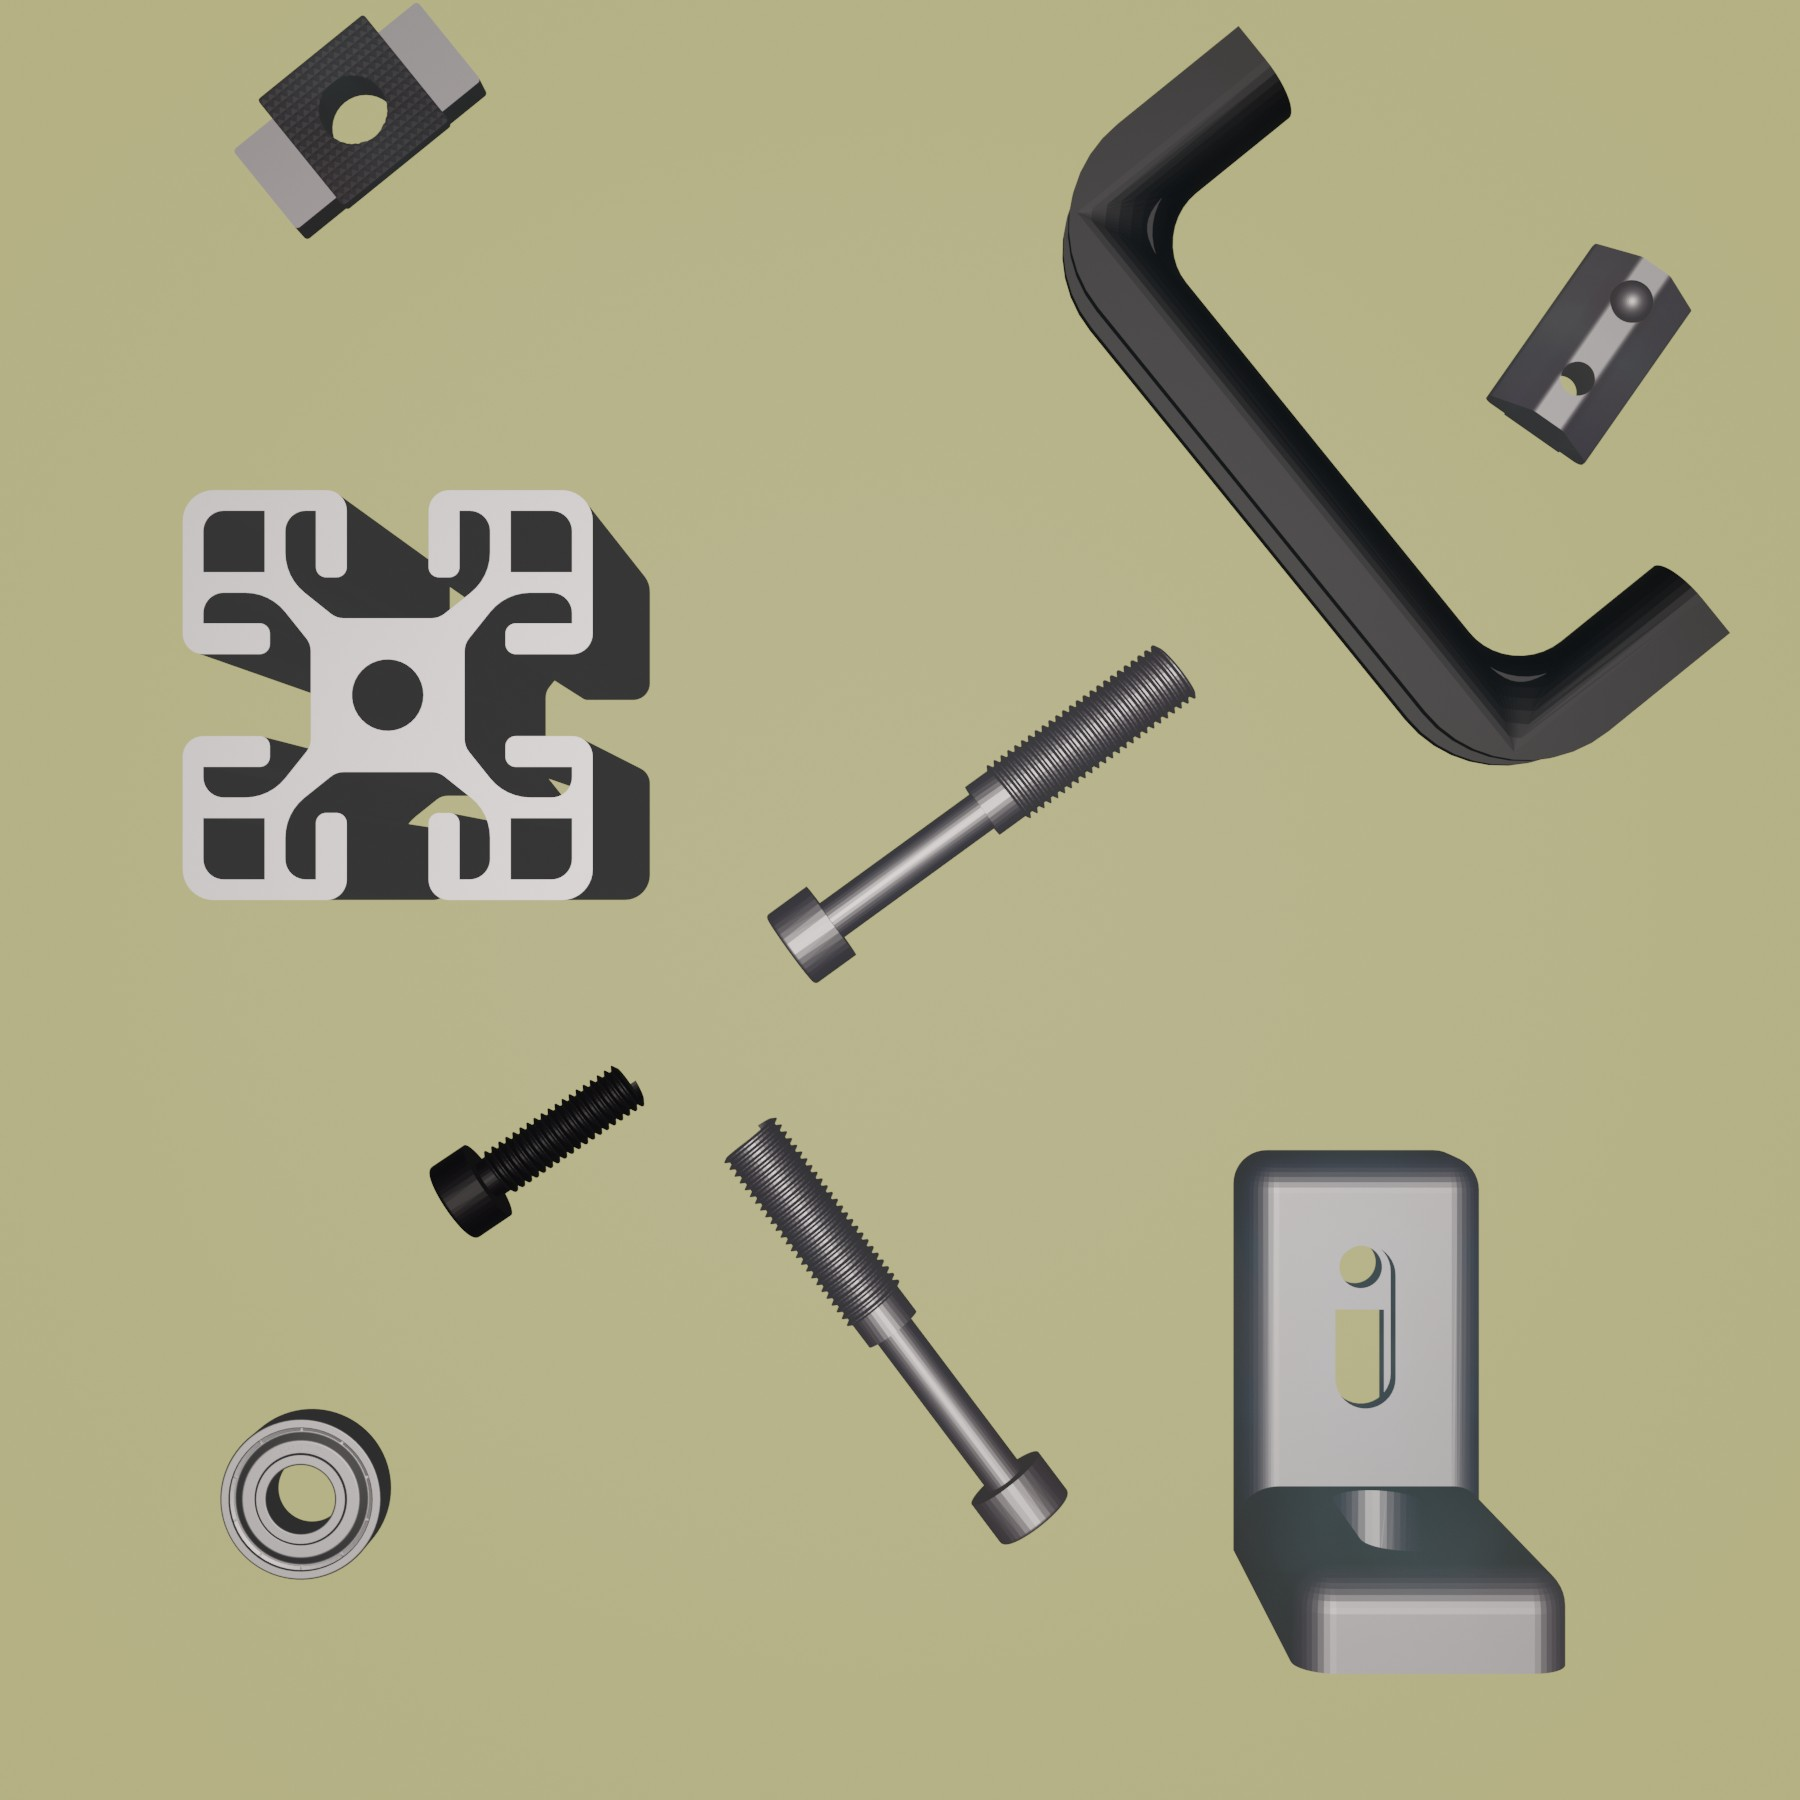Aluminium Extension: (175, 486, 654, 907)
Ball Bearing: (218, 1408, 392, 1582)
Multiwinkel: (1230, 1147, 1569, 1676)
Pull Handle: (1062, 26, 1731, 765)
Shoulder Socket Head Cap Screw: (724, 1114, 1070, 1548), (765, 643, 1202, 986)
Socket Head Cap Screw: (427, 1058, 646, 1241)
T Nut Square: (232, 2, 488, 241)
T Spring Nut: (1485, 239, 1691, 470)
